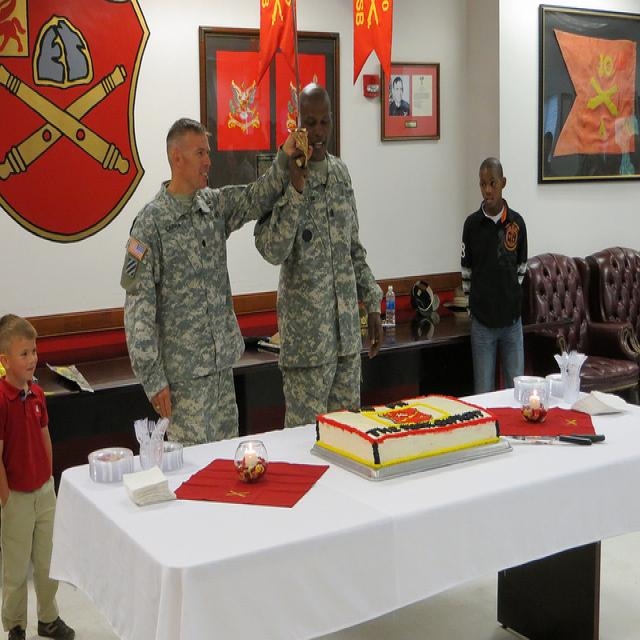chair: (521, 254, 640, 394), (585, 246, 640, 342)
dining table: (47, 350, 640, 633)
